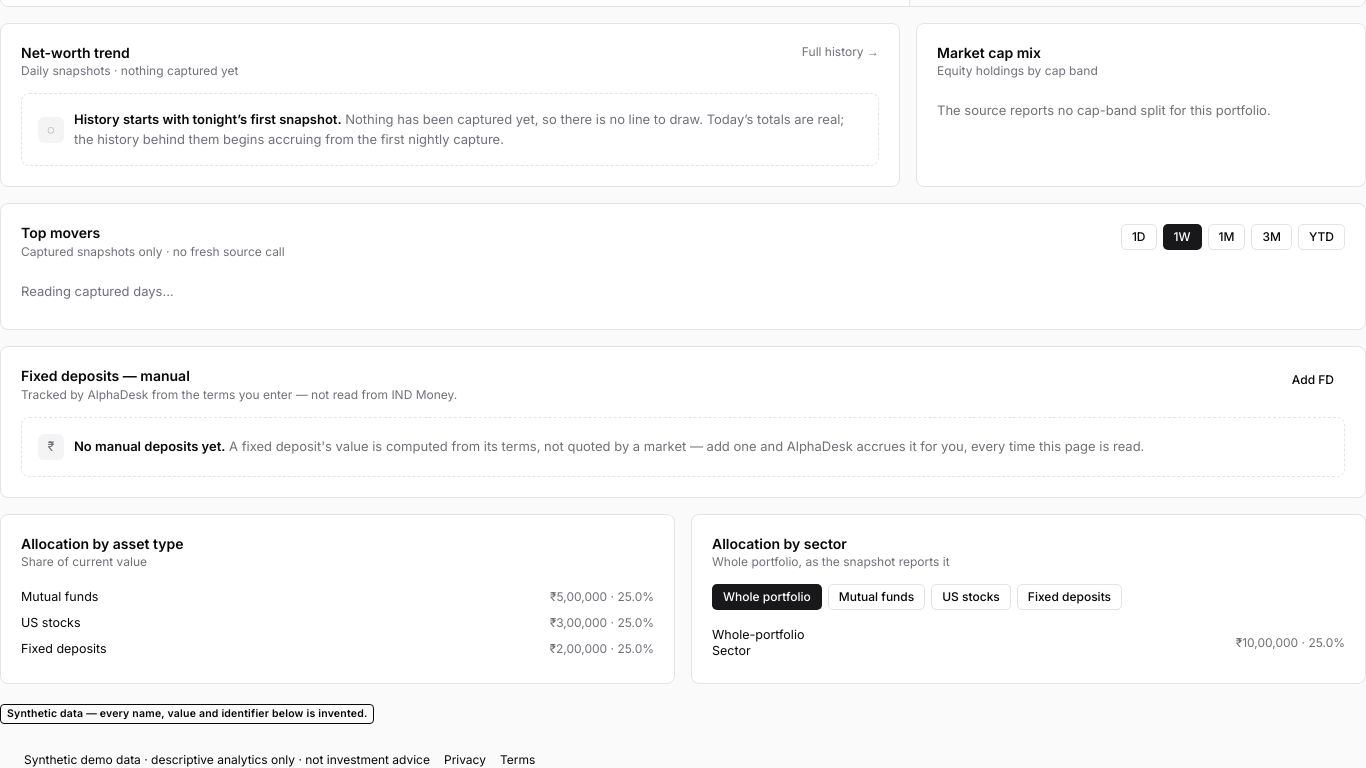
Test: sector drill-down race guard › shows a skeleton rather than the outgoing bars while a chip is in flight
The image size is (1366, 768).
(page scrolled)
Check: the heading "Allocation by sector" is shown, box [712, 534, 847, 552]
Check: the text "Whole-portfolio Sector" is shown, box [712, 627, 804, 658]
Click the button "Mutual funds" at (876, 597), box [828, 584, 925, 610]
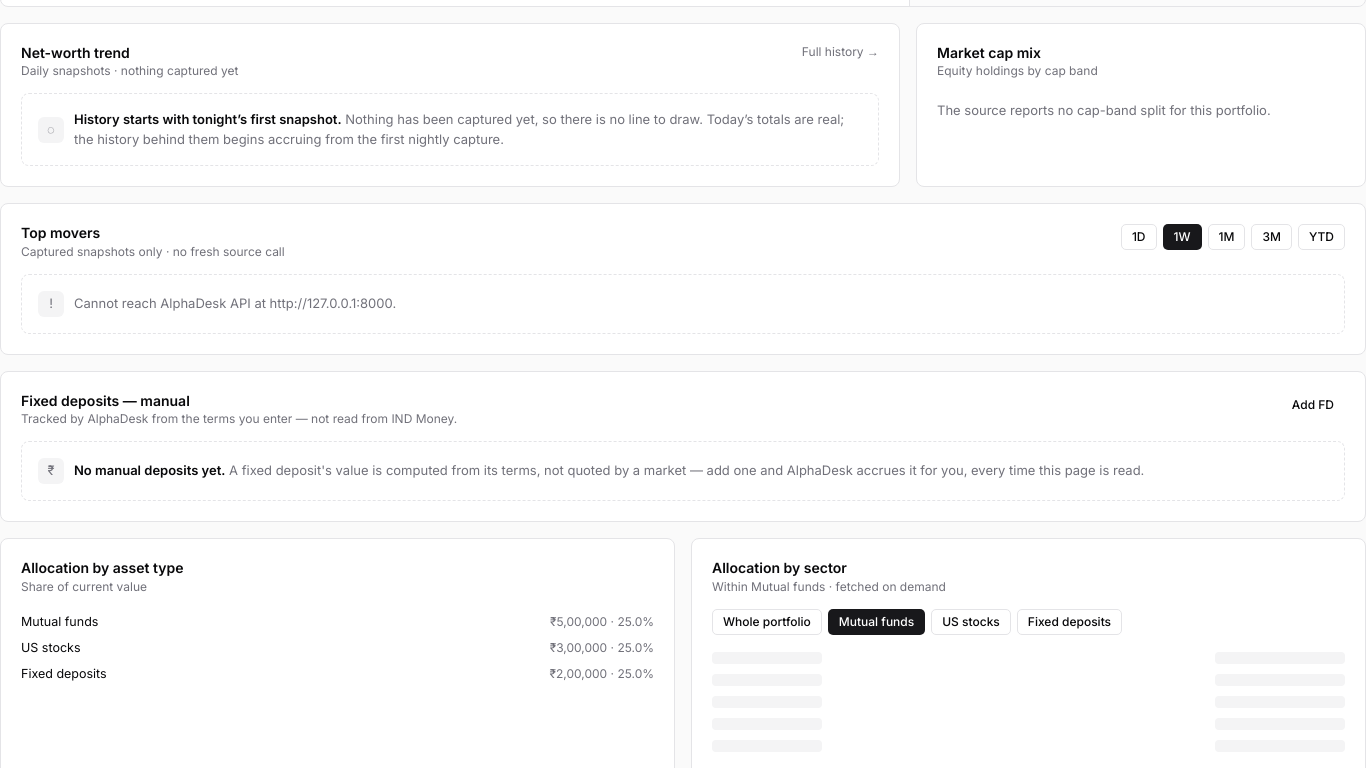
Check: the text "Whole-portfolio Sector" is gone
Check: the text "Within Mutual funds · fetched on demand" is shown, box [712, 578, 946, 594]
